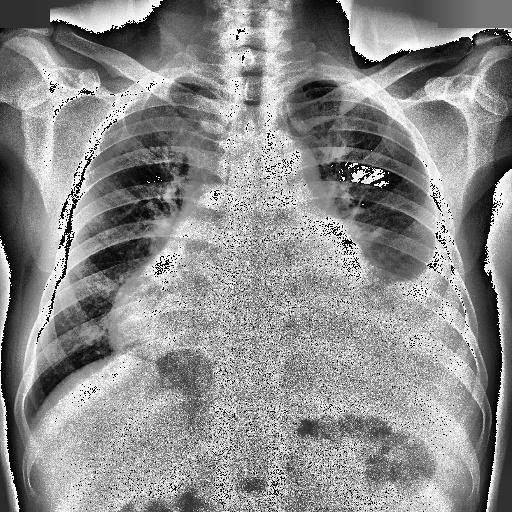0- Aortic enlargement: (186, 140, 322, 202), (257, 132, 330, 218)
10- Pleural effusion: (348, 222, 468, 426), (357, 226, 472, 364), (406, 202, 478, 375)
3- Cardiomegaly: (107, 264, 401, 401), (102, 228, 393, 362), (110, 275, 424, 357)
